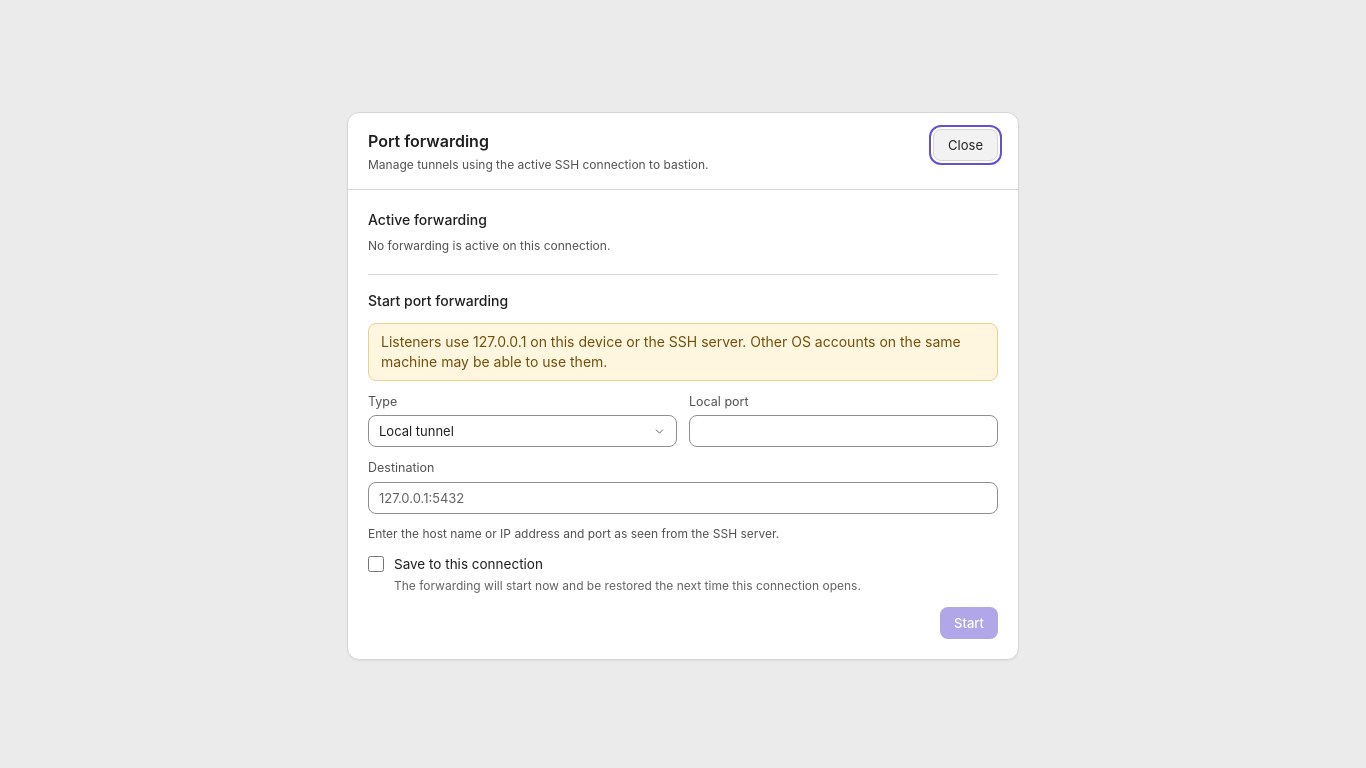
Test: TerminalPortForwards › surfaces the safe bind detail returned by the engine
Type "8080" into the field labelled "Local port".
click(844, 431); type("8080")  # box [689, 415, 998, 447]
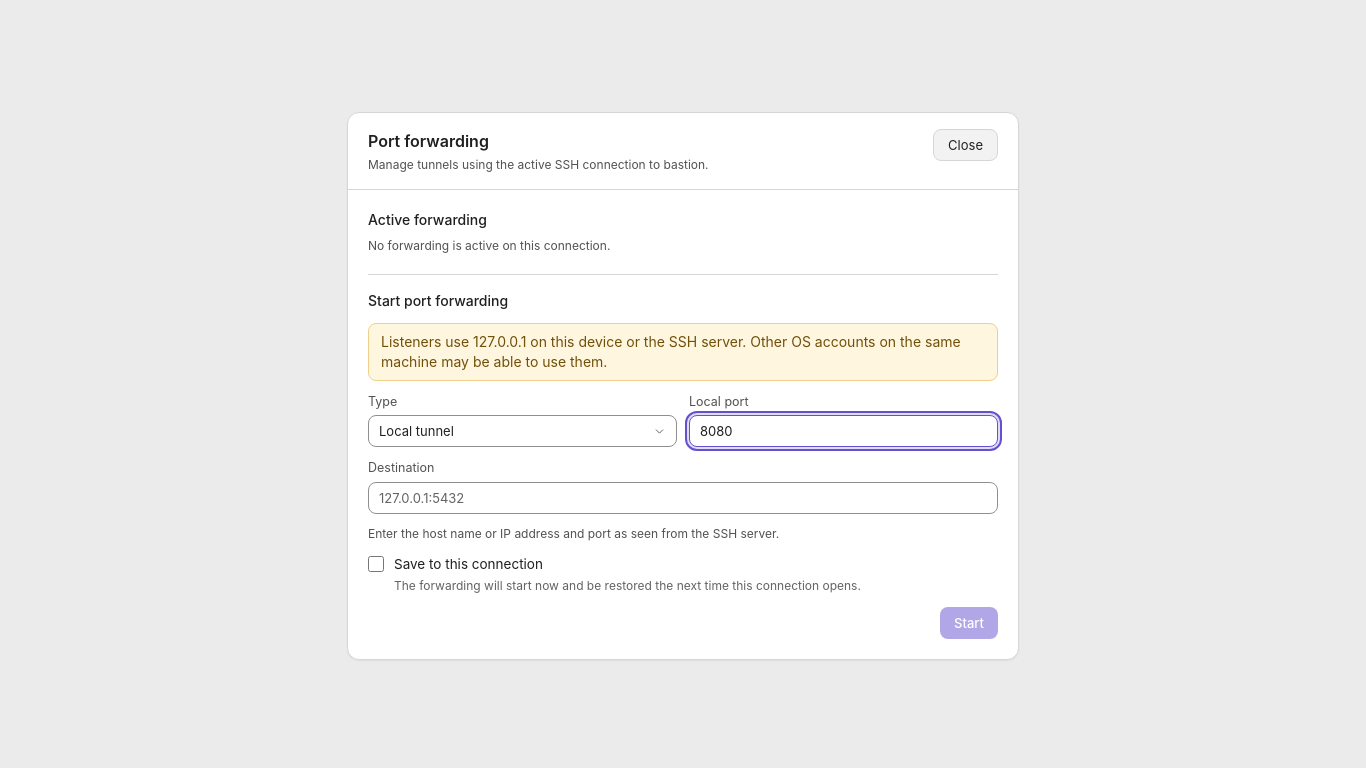
Type "db.internal:5432" into the field labelled "Destination".
click(683, 498); type("db.internal:5432")  # box [368, 482, 998, 514]
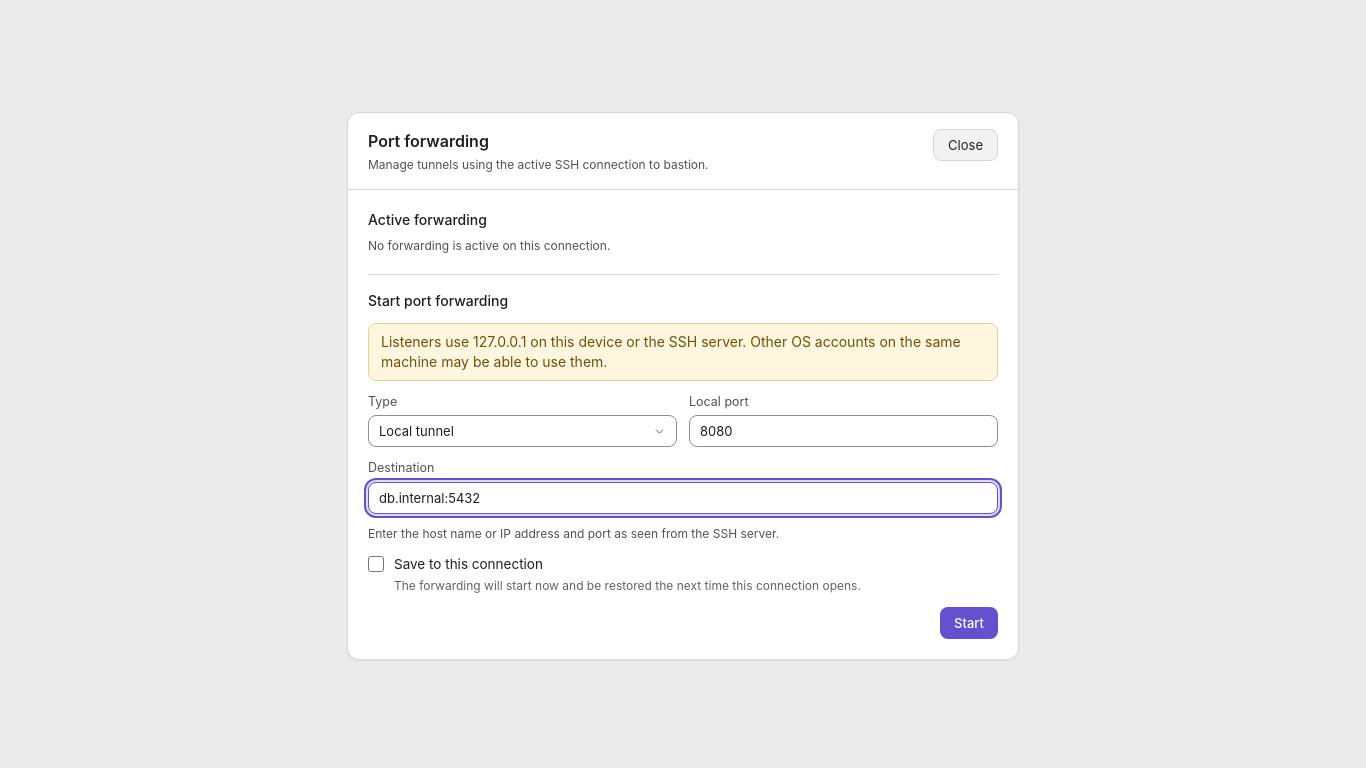
Click the button "Start".
click(969, 623)  # box [940, 607, 998, 639]
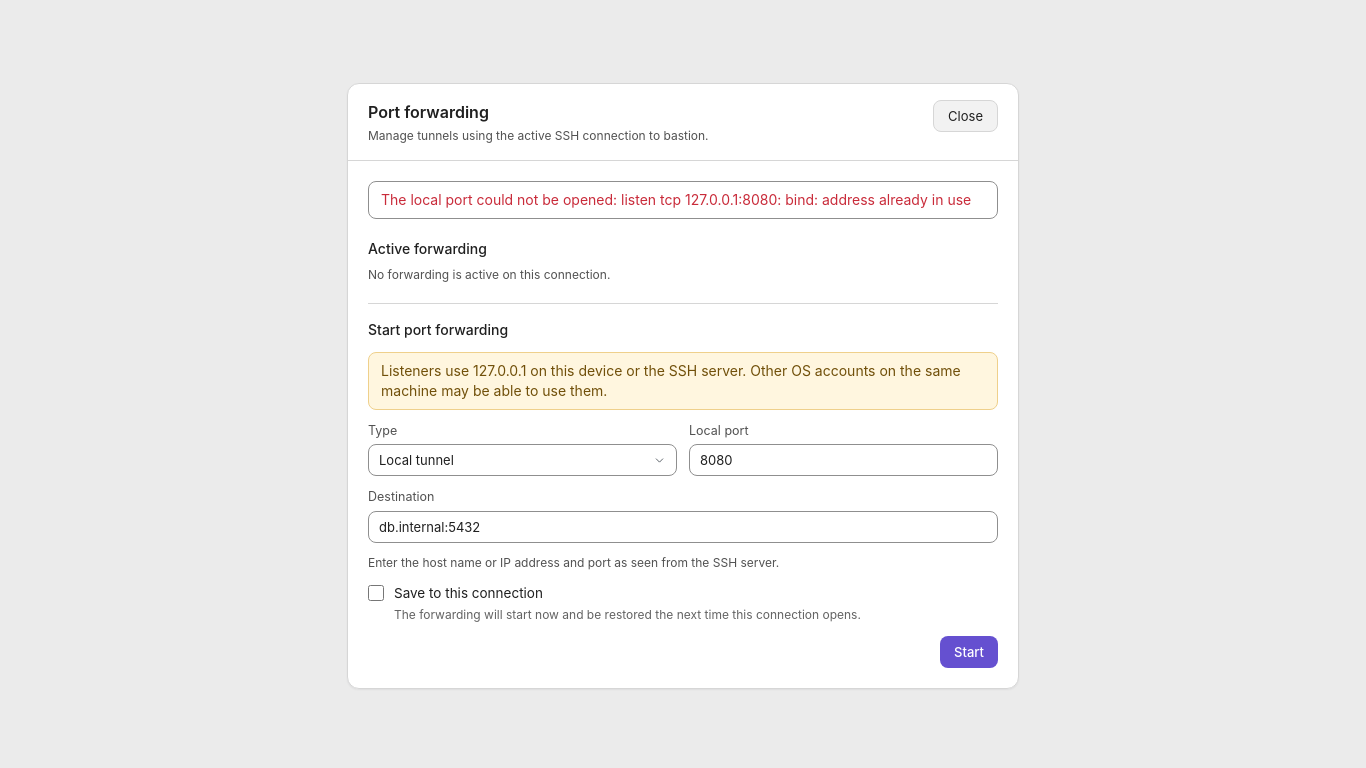
expect the 1st message shows "address already in use": met, box [381, 191, 971, 208]
